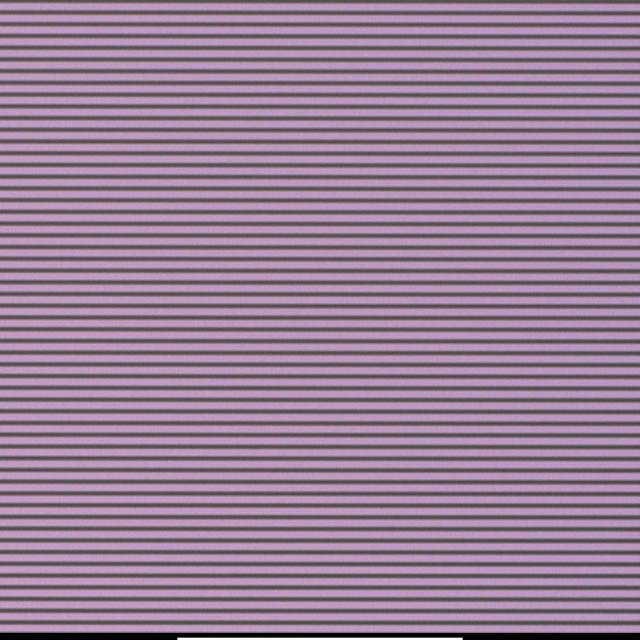nonvisual: (292, 267, 304, 278)
